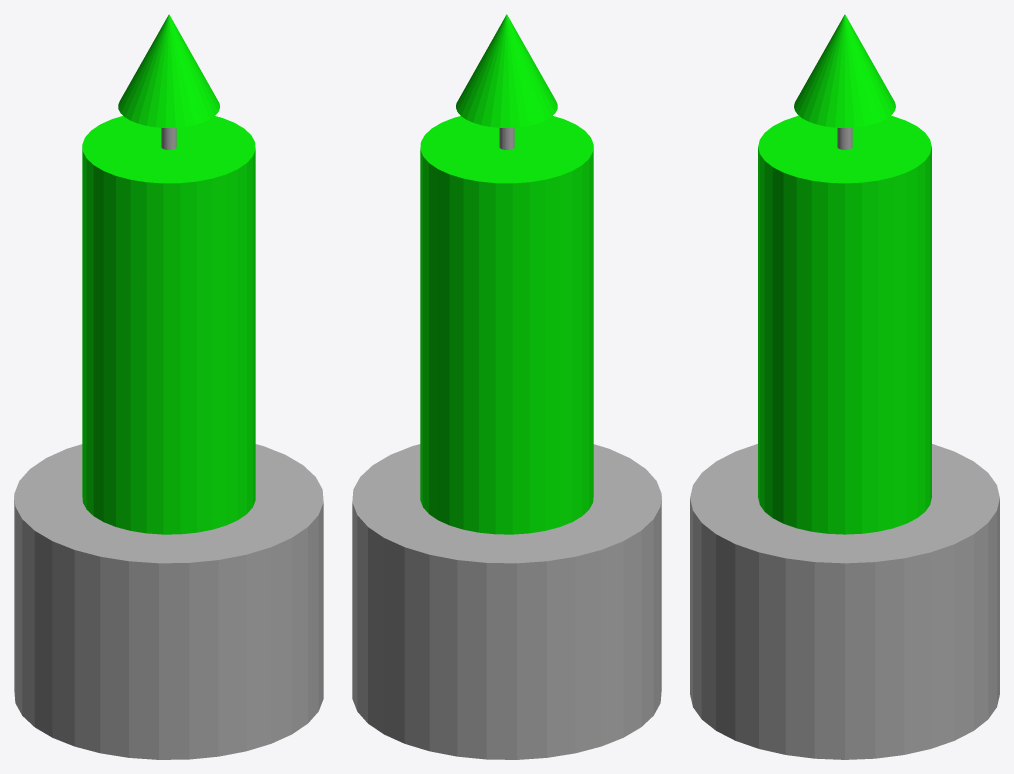
The model's file is Buoy-Starboard.glb.
3 views of the same model, side by side, from view 1: azimuth 30°, elevation 25°; view 2: azimuth 150°, elevation 25°; view 3: azimuth 270°, elevation 25° (orthographic).
Parts seen in each view (by area): view 1: Bouée, Cone; view 2: Bouée, Cone; view 3: Bouée, Cone.
Part boxes in pixels (x1=…): Bouée: x1=14, y1=116, x2=323, y2=759; Cone: x1=118, y1=14, x2=219, y2=127; Bouée: x1=352, y1=116, x2=661, y2=759; Cone: x1=456, y1=14, x2=557, y2=127; Bouée: x1=690, y1=115, x2=999, y2=759; Cone: x1=794, y1=14, x2=895, y2=127.
Size of the model in its own units: 2 by 4.85 by 2.
